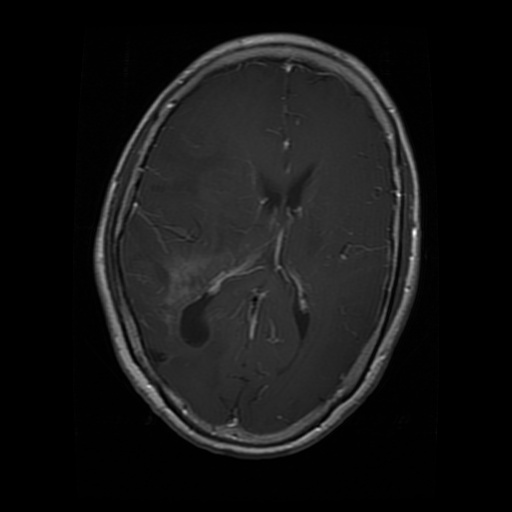glioma: (131, 241, 267, 368)
